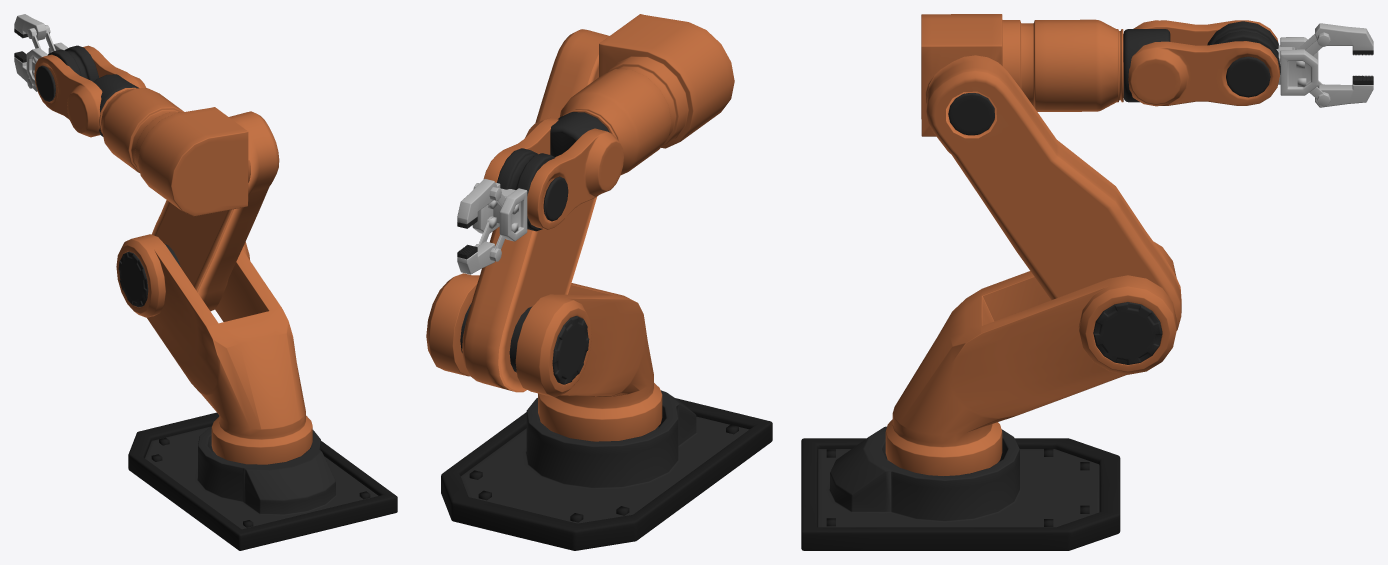
The model's file is RobotArm_model_HP_beveled.fbx.
3 views of the same model, side by side, from view 1: azimuth 30°, elevation 25°; view 2: azimuth 150°, elevation 25°; view 3: azimuth 270°, elevation 25° (orthographic). The views are drawn at different scales.
Visible parts, largest first — view 1: Cylinder.003, Cylinder.014, Cylinder.005, Cube.003, Cylinder.010, Cylinder.016, Cylinder.004, Cylinder.015, Cylinder.018, Cylinder.017, Cube.010; view 2: Cylinder.003, Cylinder.005, Cylinder.014, Cube.003, Cylinder.010, Cylinder.016, Cylinder.004, Cube.008, Cylinder.015, Cylinder.018, Cube.010, Cylinder.017 (+2 smaller); view 3: Cylinder.003, Cube.003, Cylinder.005, Cylinder.014, Cylinder.010, Cylinder.016, Cylinder.004, Cube.008, Cylinder.013, Cylinder.017, Cylinder.015, Cylinder.018 (+2 smaller).
Boxes of the visible parts, box(x1,y1,x2,y2) form: Cylinder.003: box(116, 234, 312, 464); Cylinder.014: box(99, 87, 250, 216); Cylinder.005: box(145, 426, 378, 529); Cube.003: box(151, 111, 279, 311); Cylinder.010: box(128, 412, 397, 550); Cylinder.016: box(34, 45, 146, 137); Cylinder.004: box(118, 244, 180, 307); Cylinder.015: box(47, 45, 98, 81); Cylinder.018: box(93, 74, 138, 136); Cylinder.017: box(36, 65, 55, 101); Cube.010: box(14, 14, 46, 40); Cylinder.003: box(426, 273, 662, 441); Cylinder.005: box(460, 390, 749, 523); Cylinder.014: box(559, 14, 734, 175); Cube.003: box(462, 29, 609, 392); Cylinder.010: box(441, 398, 772, 550); Cylinder.016: box(483, 117, 623, 229); Cylinder.004: box(460, 303, 589, 384); Cube.008: box(472, 182, 527, 241); Cylinder.015: box(497, 148, 555, 231); Cylinder.018: box(550, 112, 609, 156); Cube.010: box(457, 179, 496, 224); Cylinder.017: box(543, 176, 568, 221); Cylinder.003: box(885, 241, 1176, 475); Cube.003: box(926, 55, 1181, 330); Cylinder.005: box(817, 426, 1099, 527); Cylinder.014: box(921, 14, 1123, 136); Cylinder.010: box(801, 438, 1120, 550); Cylinder.016: box(1128, 20, 1279, 106); Cylinder.004: box(1093, 302, 1162, 364); Cube.008: box(1280, 37, 1318, 95); Cylinder.013: box(948, 93, 994, 135); Cylinder.017: box(1226, 56, 1270, 97); Cylinder.015: box(1207, 21, 1280, 74); Cylinder.018: box(1123, 29, 1170, 102).
Size of the model in its own units: 394 by 791 by 911.
